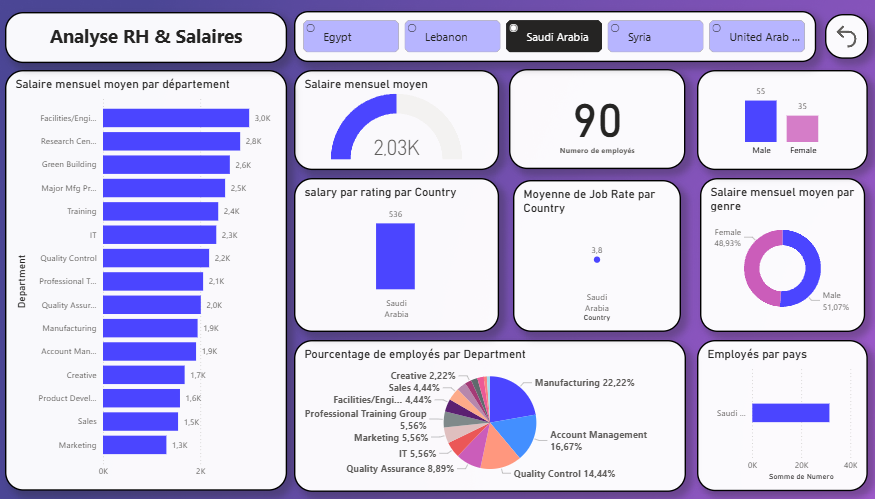

This screenshot's page, from the dashboard's own definition file:
{"tool":"powerbi","page":{"name":"Analyse RH & Salaires","canvas":[1280,720],"ordinal":2},"visuals":[{"type":"donutChart","title":"Salaire mensuel moyen par genre","fields":{"Category":["EmpTable.Gender"],"Y":["Avg(EmpTable.Monthly Salary)"]},"box":[1007.1,254.3,235.7,220],"z":0},{"type":"card","fields":{"Values":["CountNonNull(EmpTable.No)"]},"box":[734.1,98.4,252.3,142.5],"z":1000},{"type":"columnChart","fields":{"Y":["CountNonNull(EmpTable.No)"],"Category":["EmpTable.Gender"]},"box":[1002.9,100,244.3,142.9],"z":2000},{"type":"gauge","title":"Salaire mensuel moyen","fields":{"Y":["Avg(EmpTable.Monthly Salary)"]},"box":[427.1,100,292.9,142.9],"z":3000},{"type":"clusteredBarChart","title":"Salaire mensuel moyen par département","fields":{"Category":["EmpTable.Department"],"Y":["Avg(EmpTable.Monthly Salary)"]},"box":[14.3,100,402.9,601.4],"z":4000},{"type":"barChart","title":"Employés par pays","fields":{"Category":["EmpTable.Country"],"Y":["Sum(EmpTable.No)"]},"box":[1002.9,485.7,244.3,215.7],"z":5000},{"type":"textbox","box":[14.3,17.1,402.9,72.9],"z":6000},{"type":"pieChart","fields":{"Category":["EmpTable.Department"],"Y":["CountNonNull(EmpTable.No)"]},"box":[427.1,485.7,560,217.1],"z":7000},{"type":"lineChart","title":"Moyenne de Job Rate par Country","fields":{"Category":["EmpTable.Country"],"Y":["Avg(EmpTable.Job Rate)"]},"box":[740,257.1,240,217.1],"z":8000},{"type":"columnChart","fields":{"Category":["EmpTable.Country"],"Y":["EmpTable.salary para rating"]},"box":[427.1,254.3,292.9,220],"z":9000},{"type":"advancedSlicerVisual","fields":{"Values":["EmpTable.Country"]},"box":[427.1,15.7,745.7,72.9],"z":10000},{"type":"actionButton","box":[1185,20,62,64],"z":10001}]}

Visuals, with their boxes in screenshot pixels (x1, y1, x2, y2), scaled from the page's 1280x720 canvas onto the 875x499 screenshot:
"Salaire mensuel moyen par genre" donutChart: (x1=688, y1=176, x2=850, y2=329)
card - CountNonNull(EmpTable.No): (x1=502, y1=68, x2=674, y2=167)
columnChart - CountNonNull(EmpTable.No) x EmpTable.Gender: (x1=686, y1=69, x2=853, y2=168)
"Salaire mensuel moyen" gauge: (x1=292, y1=69, x2=492, y2=168)
"Salaire mensuel moyen par département" clusteredBarChart: (x1=10, y1=69, x2=285, y2=486)
"Employés par pays" barChart: (x1=686, y1=337, x2=853, y2=486)
textbox: (x1=10, y1=12, x2=285, y2=62)
pieChart - EmpTable.Department x CountNonNull(EmpTable.No): (x1=292, y1=337, x2=675, y2=487)
"Moyenne de Job Rate par Country" lineChart: (x1=506, y1=178, x2=670, y2=329)
columnChart - EmpTable.Country x EmpTable.salary para rating: (x1=292, y1=176, x2=492, y2=329)
advancedSlicerVisual - EmpTable.Country: (x1=292, y1=11, x2=802, y2=61)
actionButton: (x1=810, y1=14, x2=852, y2=58)
